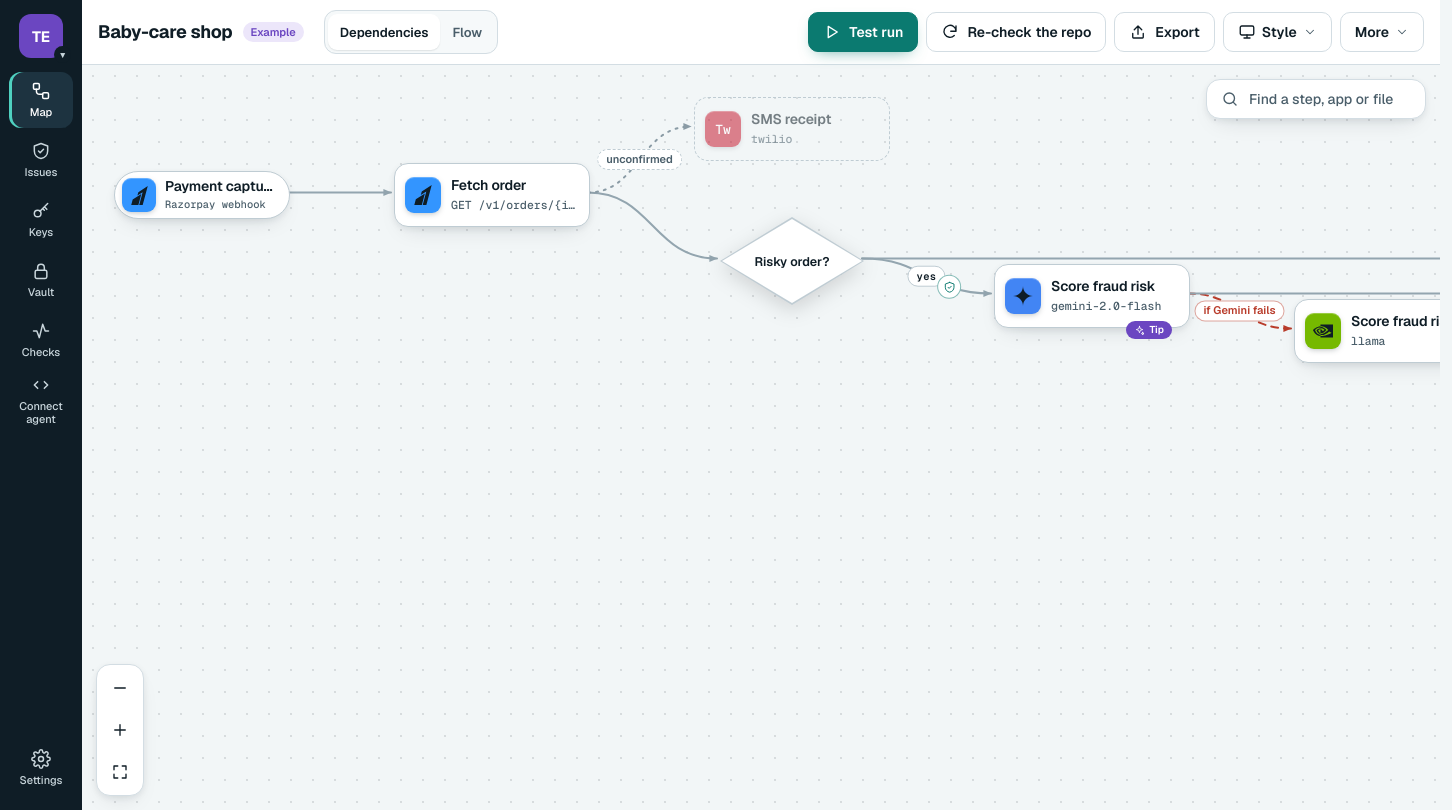
Test: search highlights matching steps
Expected: the text "Fetch order" is shown, [451,176,526,194]
Type "gemini" into the search field labelled "Find a step".
click(1333, 99); type("gemini")  # box [1247,80,1419,118]
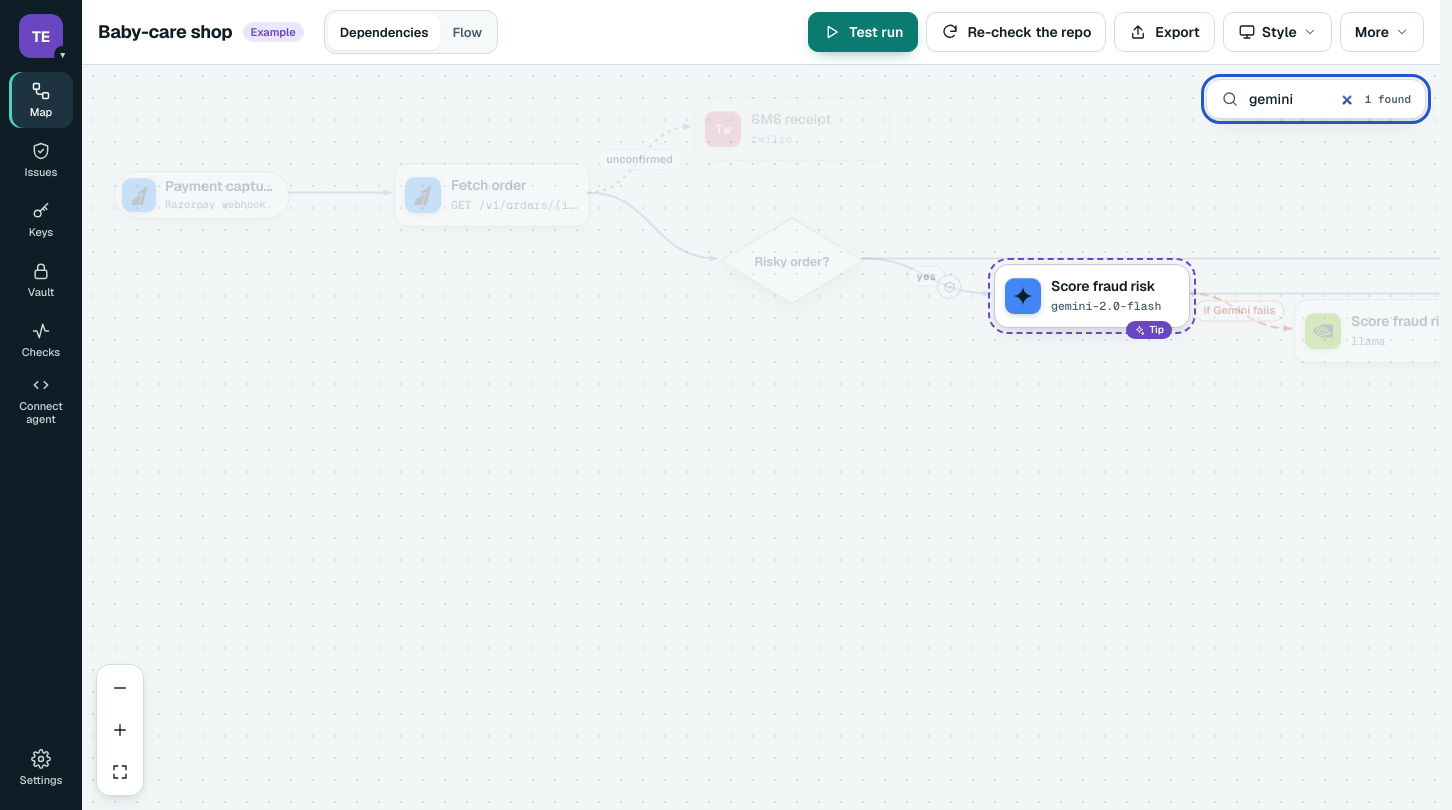
Expected: the element with class "hit" shows "Score fraud risk", [1051,278,1155,296]
Now the text "1 found" is shown, box [1365,94,1419,104]
